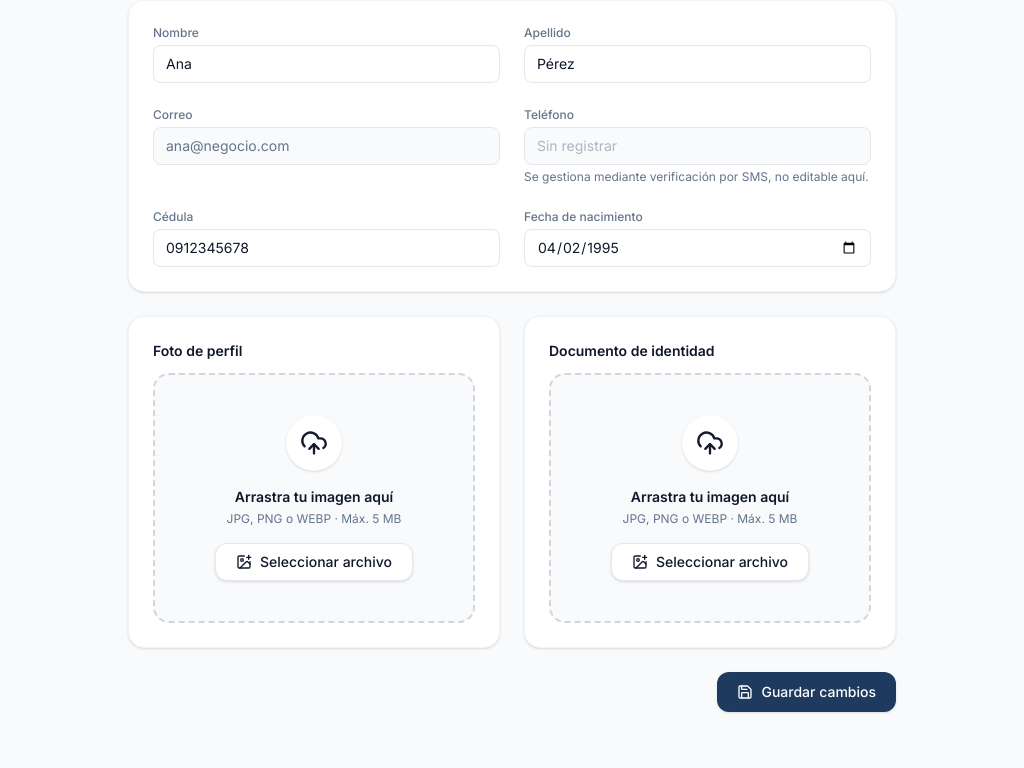
Test: PerfilTab › no envía el formulario si falta la cédula
Clear the field showing "0912345678" below "Cédula" at x=326, y=248, box top-left (153, 229), bottom-right (500, 267)
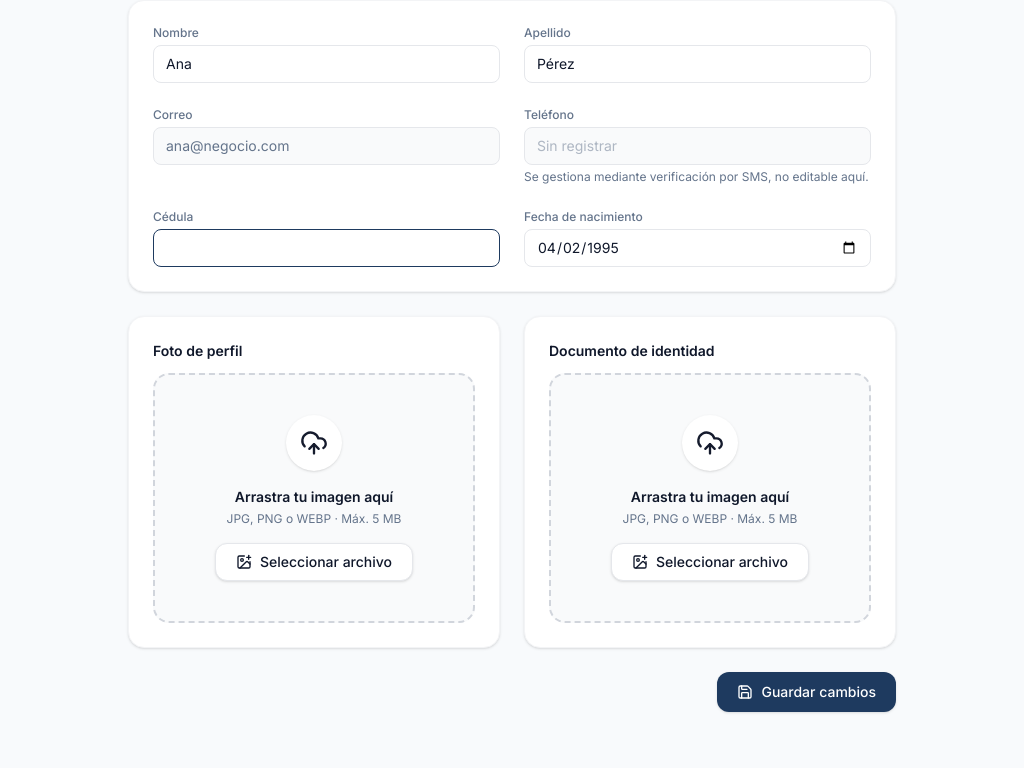
Click the button "Guardar cambios" at x=807, y=692, box top-left (718, 672), bottom-right (896, 712)
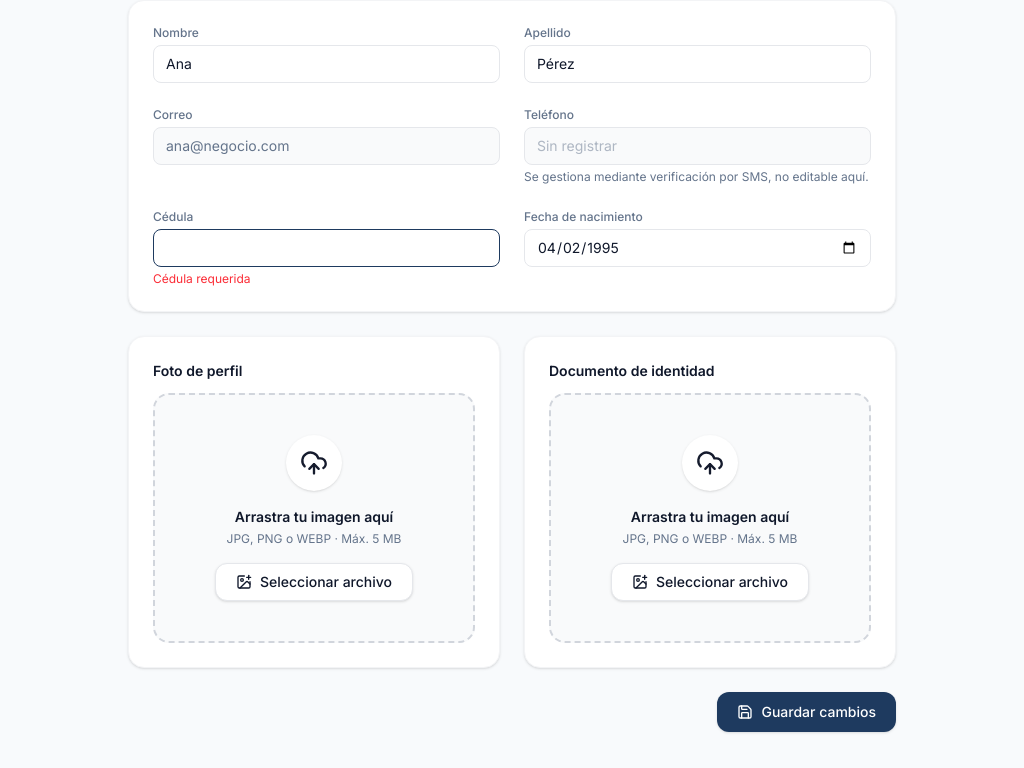
Expected: the text "Cédula requerida" is shown, top-left (153, 271), bottom-right (251, 286)
